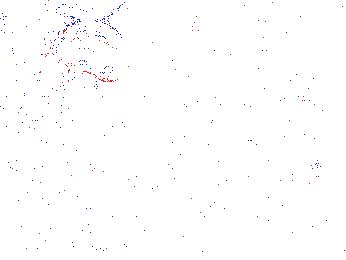moon jellyfish: (246, 93, 331, 179), (16, 62, 92, 131), (51, 20, 128, 83), (1, 14, 47, 96), (149, 41, 237, 80)
